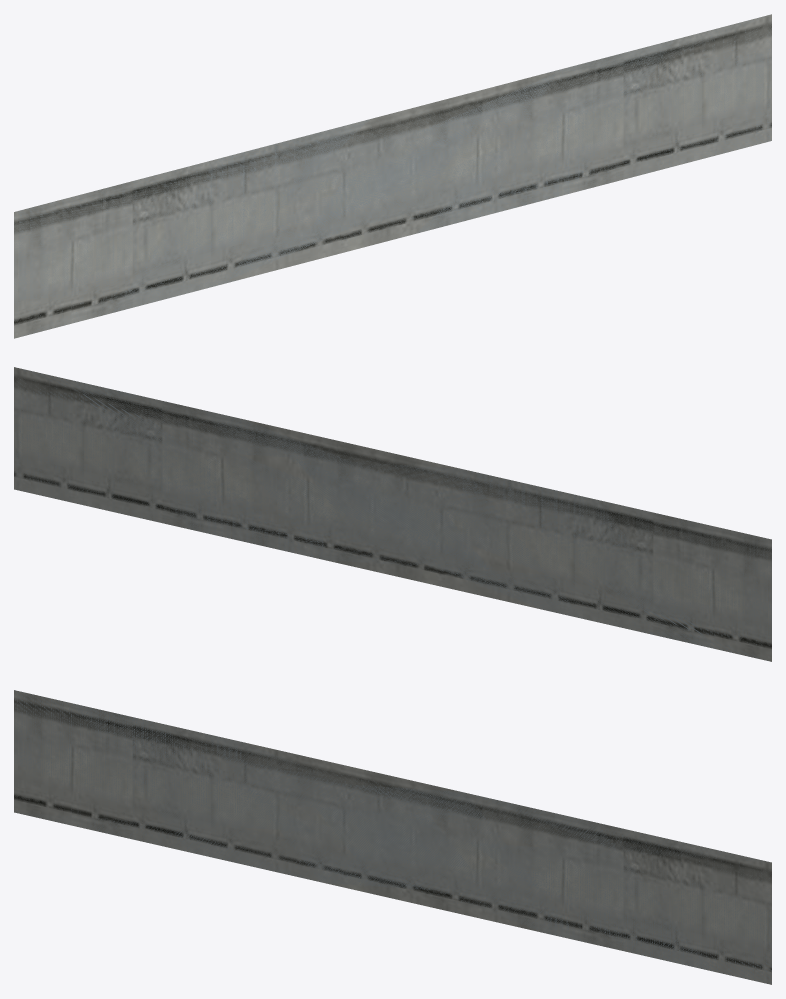
Rendered from 人民英雄纪念碑25.dae.
3 views of the same model, one above another, from view 1: azimuth 30°, elevation 25°; view 2: azimuth 150°, elevation 25°; view 3: azimuth 330°, elevation 25° (orthographic). The views are drawn at different scales.
Parts seen in each view (by area): view 1: SketchUp; view 2: SketchUp; view 3: SketchUp.
Part boxes in pixels (bbox=[...]): SketchUp: bbox=[14, 14, 771, 338]; SketchUp: bbox=[14, 367, 771, 661]; SketchUp: bbox=[14, 690, 771, 984].
Bounding box in the file's own units: 451 × 13.4 × 70.87.
